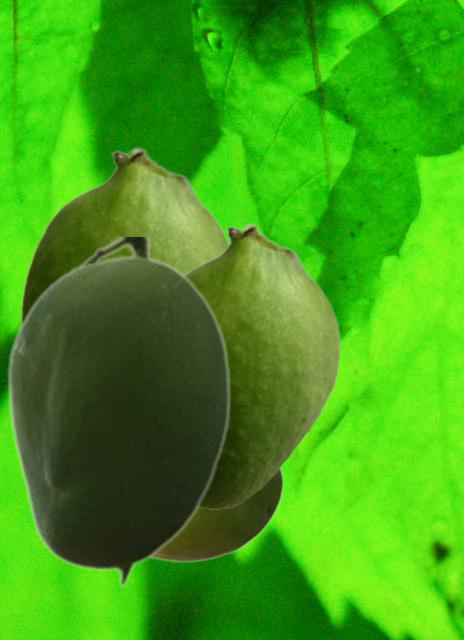green_mango: (5, 237, 230, 587), (185, 222, 340, 508), (20, 146, 228, 320), (153, 468, 283, 562)
